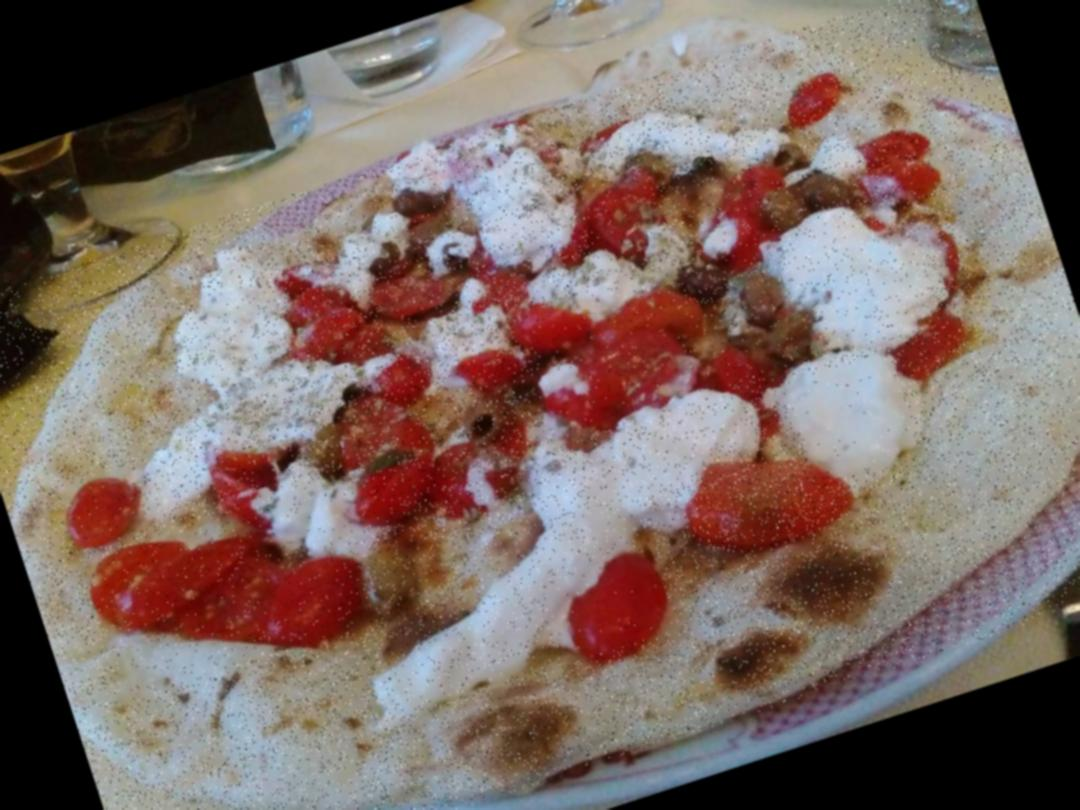Cheese: (772, 202, 934, 365), (552, 406, 758, 521), (379, 590, 566, 714), (151, 364, 340, 476), (474, 500, 652, 605), (786, 350, 920, 484), (190, 276, 278, 396), (624, 100, 742, 180), (476, 166, 564, 260), (280, 474, 363, 556)
Olives: (726, 306, 824, 378), (352, 542, 428, 624), (458, 394, 516, 452), (796, 166, 854, 220), (736, 270, 792, 324), (756, 184, 810, 238), (302, 423, 350, 482), (679, 253, 730, 308), (763, 135, 812, 182), (392, 184, 438, 222), (364, 237, 408, 274), (434, 236, 472, 274)
Pizza: (0, 0, 1080, 810)
Tomatoes: (80, 484, 373, 702), (515, 258, 735, 447), (669, 430, 842, 566), (330, 386, 442, 522), (542, 554, 678, 664), (272, 246, 384, 376), (686, 167, 794, 275), (576, 171, 672, 273), (858, 116, 954, 218), (207, 438, 297, 532), (58, 465, 146, 551), (776, 61, 856, 135), (371, 261, 451, 323)
